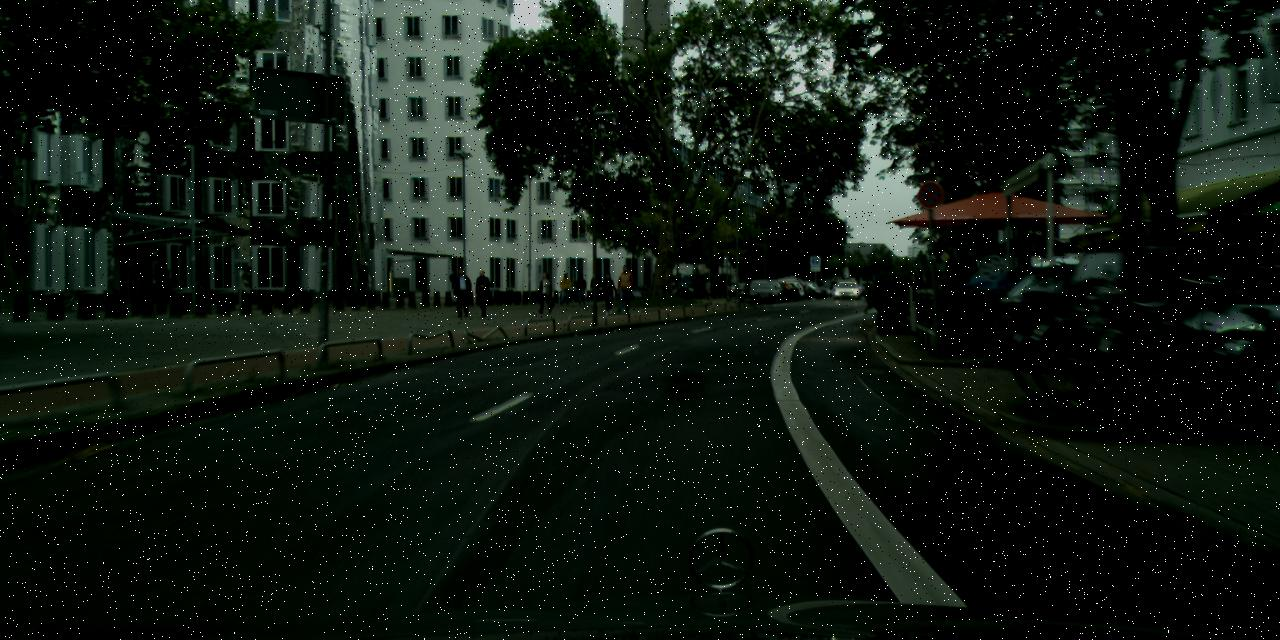ped: (451, 266, 471, 316), (472, 270, 492, 318), (614, 265, 634, 312), (536, 271, 554, 314), (600, 272, 616, 314), (587, 271, 602, 306), (574, 273, 588, 306), (559, 273, 571, 305), (710, 277, 719, 297), (704, 280, 711, 298)
